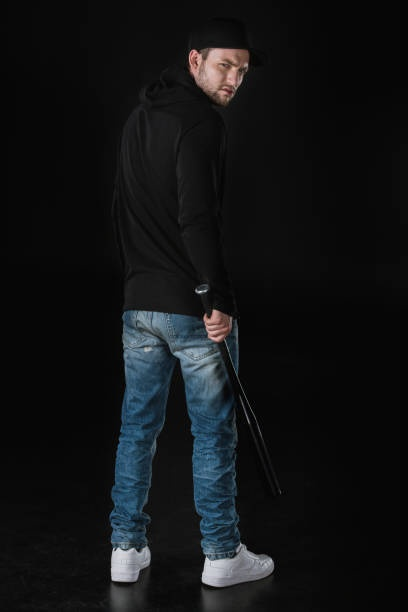bita: (196, 287, 280, 500)
